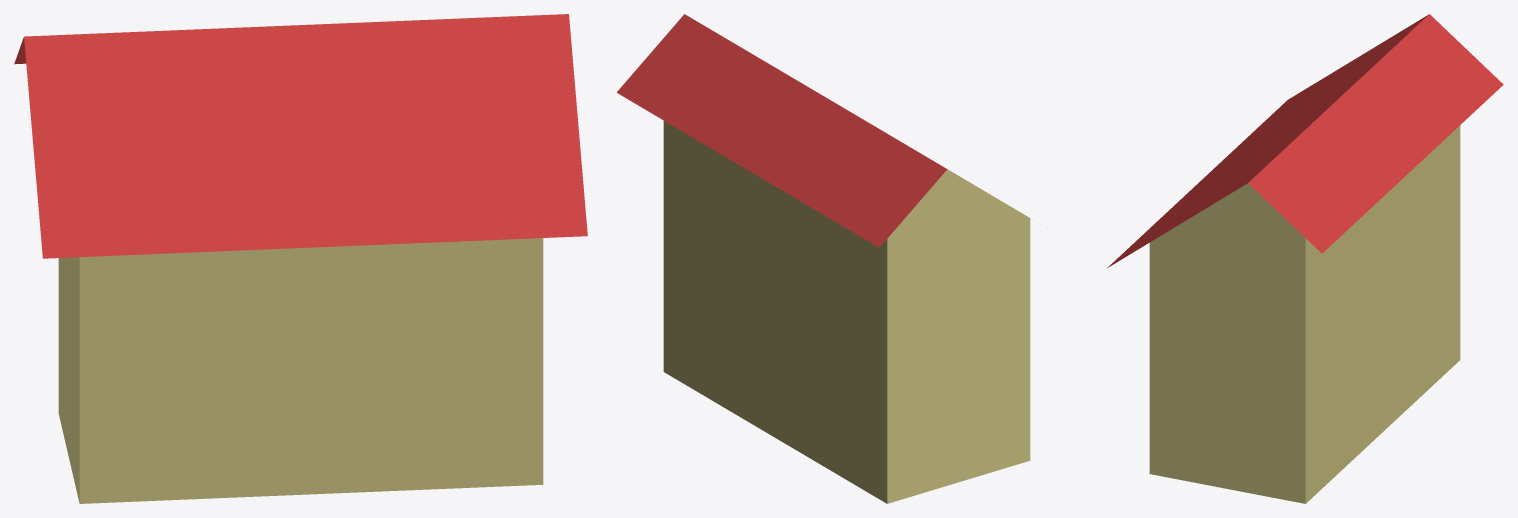
3 renders of one model, left to right at view 1: azimuth 30°, elevation 25°; view 2: azimuth 150°, elevation 25°; view 3: azimuth 270°, elevation 25°, orthographic. The views are drawn at different scales.
Size of the model in its own units: 15.16 by 12.1 by 10.91.
